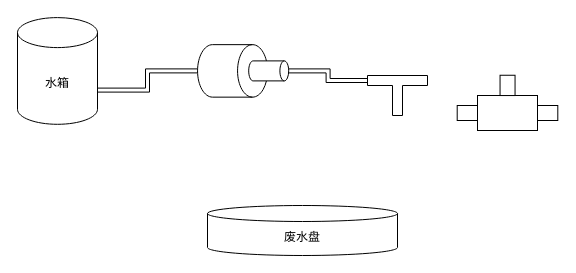
Some shapes in this 576 by 273 pixel diagram are drawn without their labels. Here are the shapes that lost their labels. From the top down, the centre of each, then its label:
At [232,70]: "水泵".
At [507,112]: "电磁阀 两位三通".
